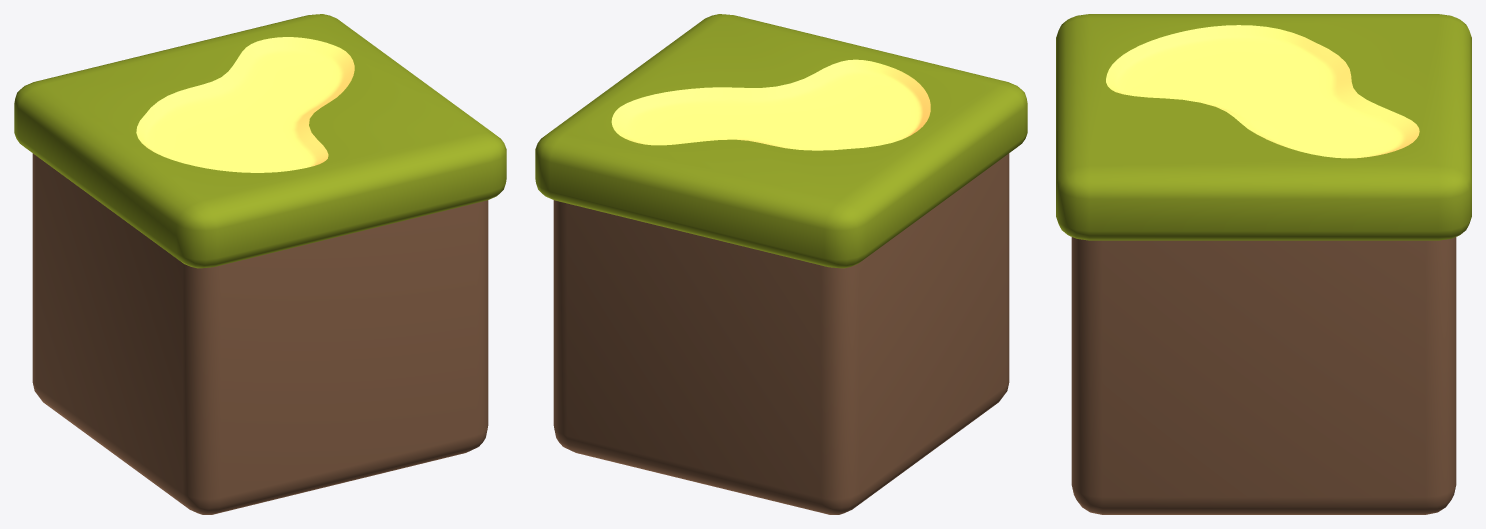
3 views of the same model, side by side, from view 1: azimuth 30°, elevation 25°; view 2: azimuth 150°, elevation 25°; view 3: azimuth 270°, elevation 25° (orthographic). The views are drawn at different scales.
Parts seen in each view (by area): view 1: Cube.028, Cube.029; view 2: Cube.028, Cube.029; view 3: Cube.028, Cube.029.
Part boxes in pixels (x1=…): Cube.028: x1=32, y1=153, x2=488, y2=514; Cube.029: x1=14, y1=14, x2=506, y2=268; Cube.028: x1=553, y1=153, x2=1009, y2=514; Cube.029: x1=535, y1=14, x2=1027, y2=268; Cube.028: x1=1071, y1=237, x2=1456, y2=514; Cube.029: x1=1056, y1=14, x2=1471, y2=240.
Size of the model in its own units: 216 by 202 by 216.
